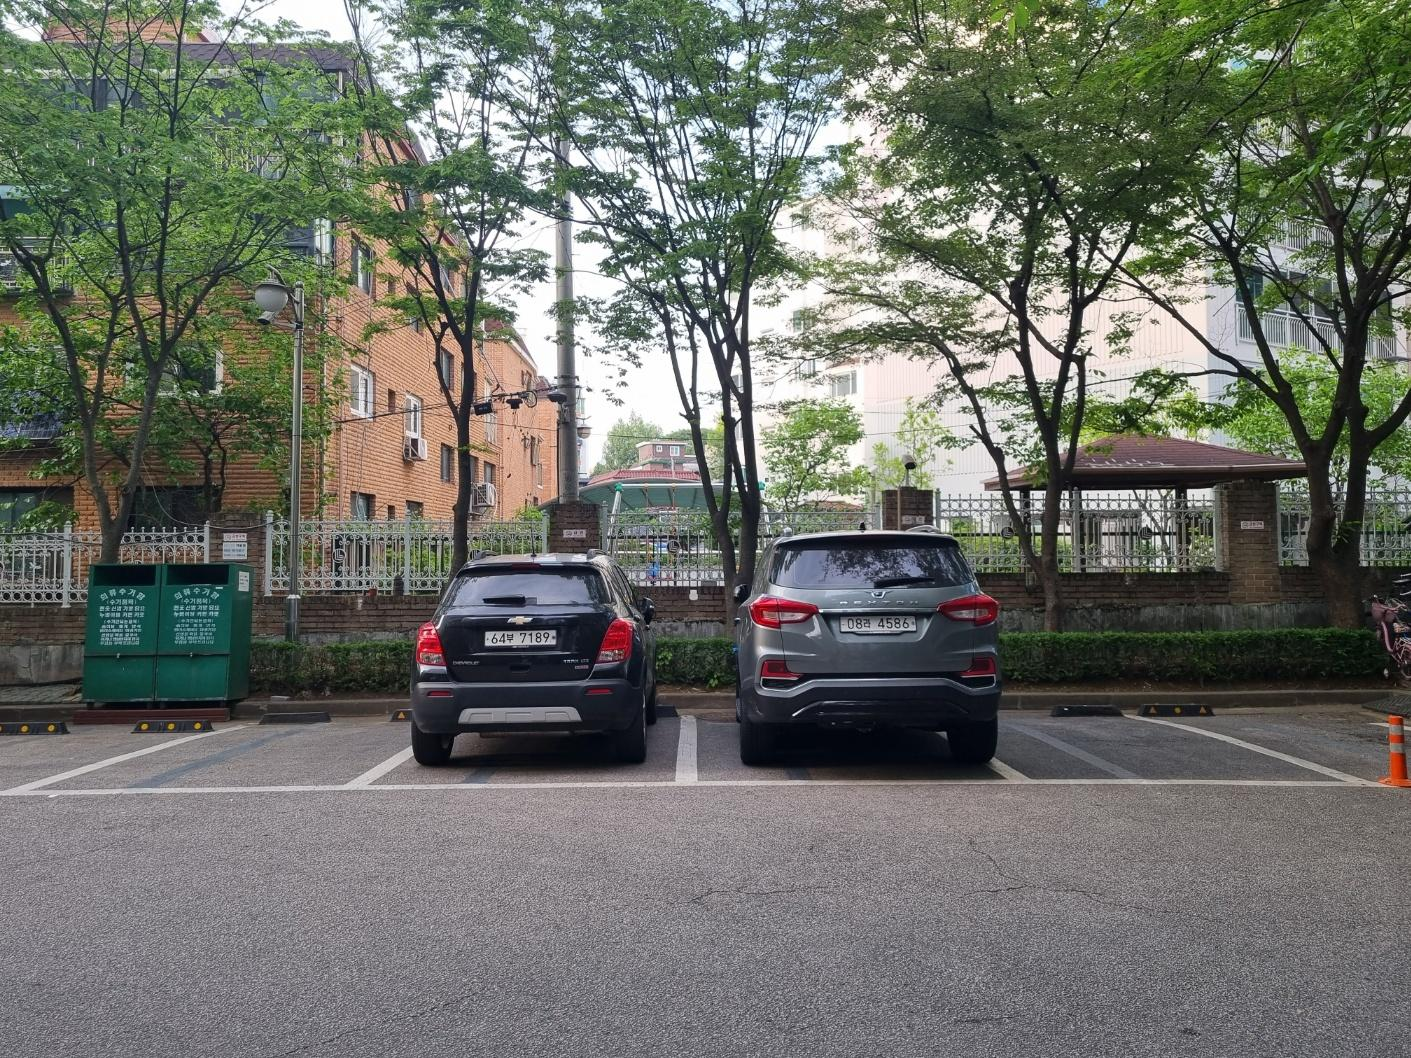empty: (974, 693, 1350, 789), (63, 716, 423, 801), (7, 716, 183, 797)
occupied: (667, 510, 1023, 781), (384, 559, 687, 787)
